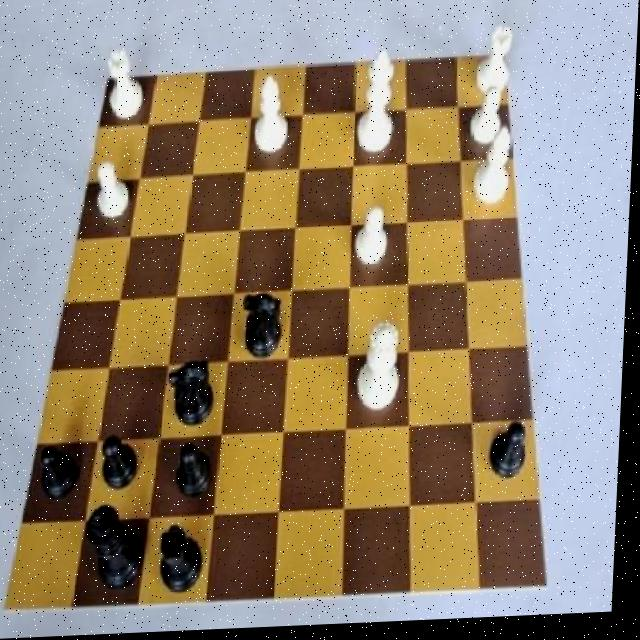black-bishop: (85, 497, 154, 605)
black-king: (168, 358, 229, 432), (242, 286, 290, 368)
black-knight: (488, 416, 540, 500), (174, 438, 223, 515), (36, 440, 88, 510), (98, 433, 148, 503)
black-queen: (154, 524, 214, 599)
black-rook: (249, 70, 295, 163), (473, 130, 515, 222)
white-bishop: (358, 51, 400, 170)
white-knight: (351, 201, 396, 284), (463, 84, 509, 152), (92, 158, 136, 224)
white-pawn: (354, 308, 409, 421)
white-queen: (100, 44, 154, 122), (471, 23, 516, 109)
